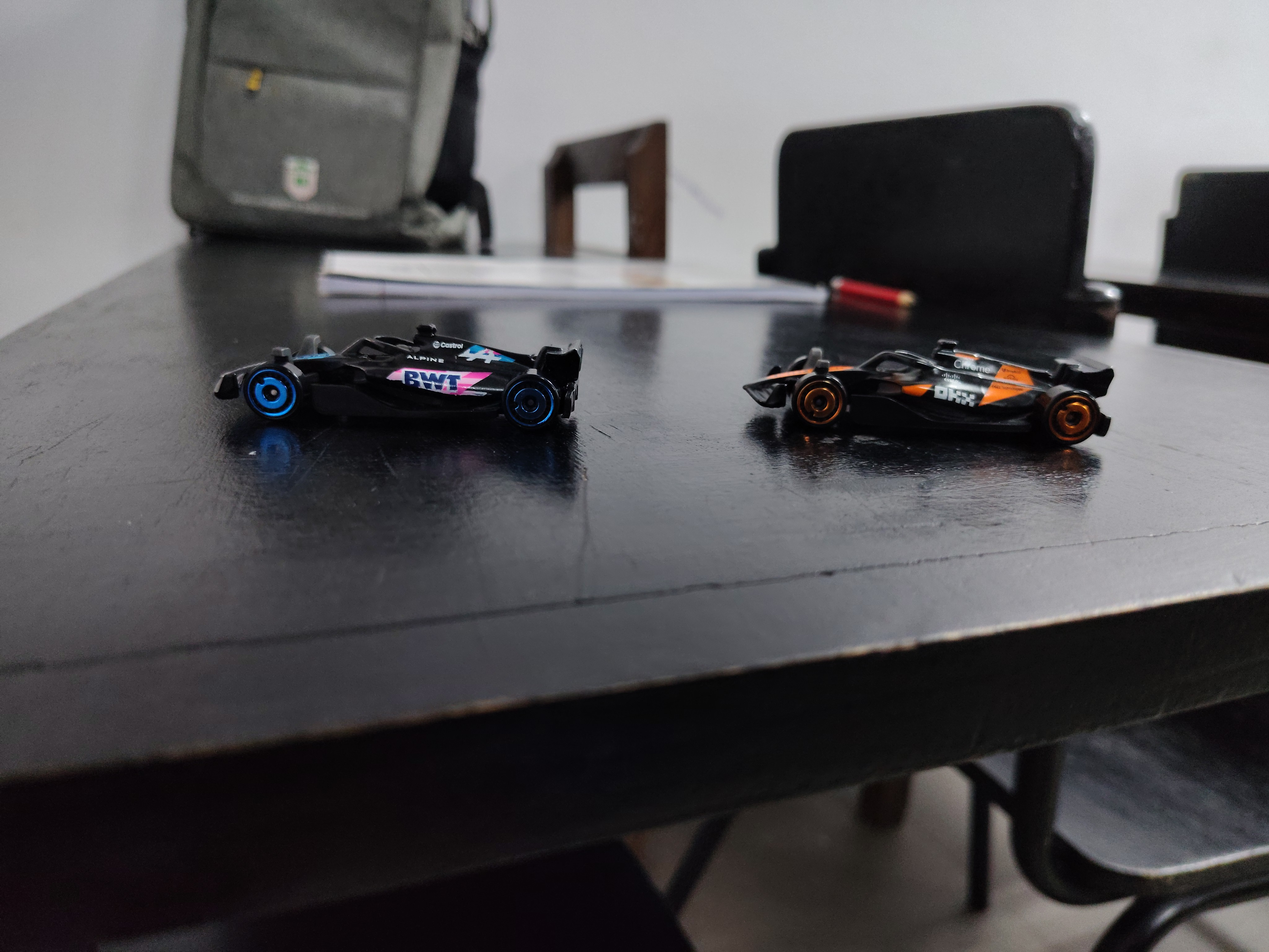Alpine A524: (192, 273, 630, 473)
McLaren MCL40: (740, 229, 1151, 500)
